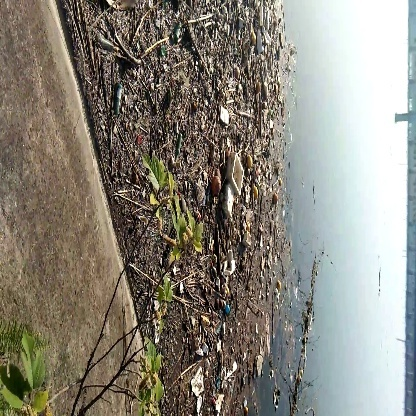plastic-garbage: (224, 144, 253, 217)
